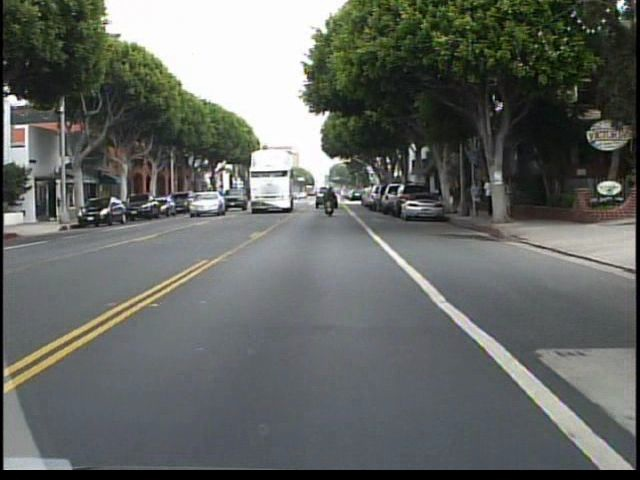person: (321, 182, 339, 220), (470, 176, 485, 219), (481, 175, 494, 220), (508, 172, 509, 218)
